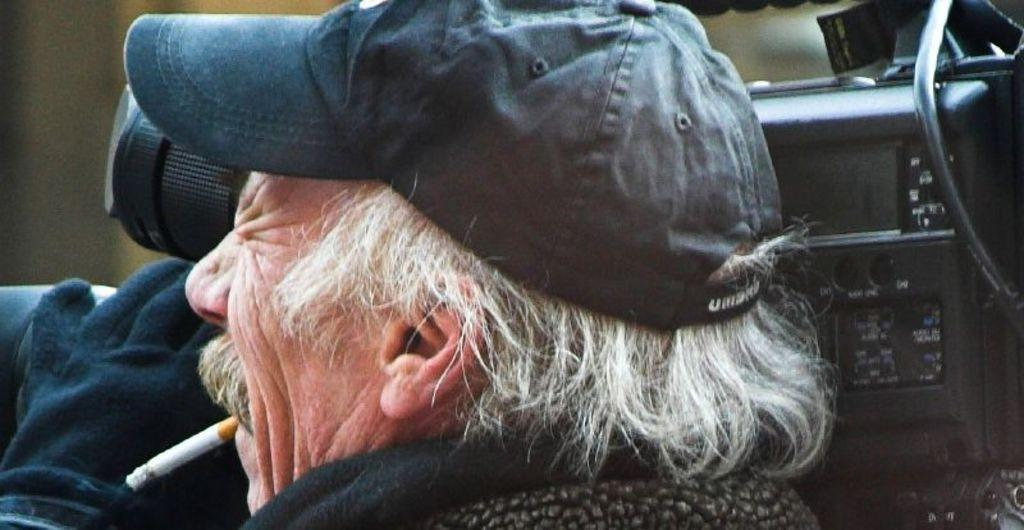Hat: (126, 0, 786, 330)
